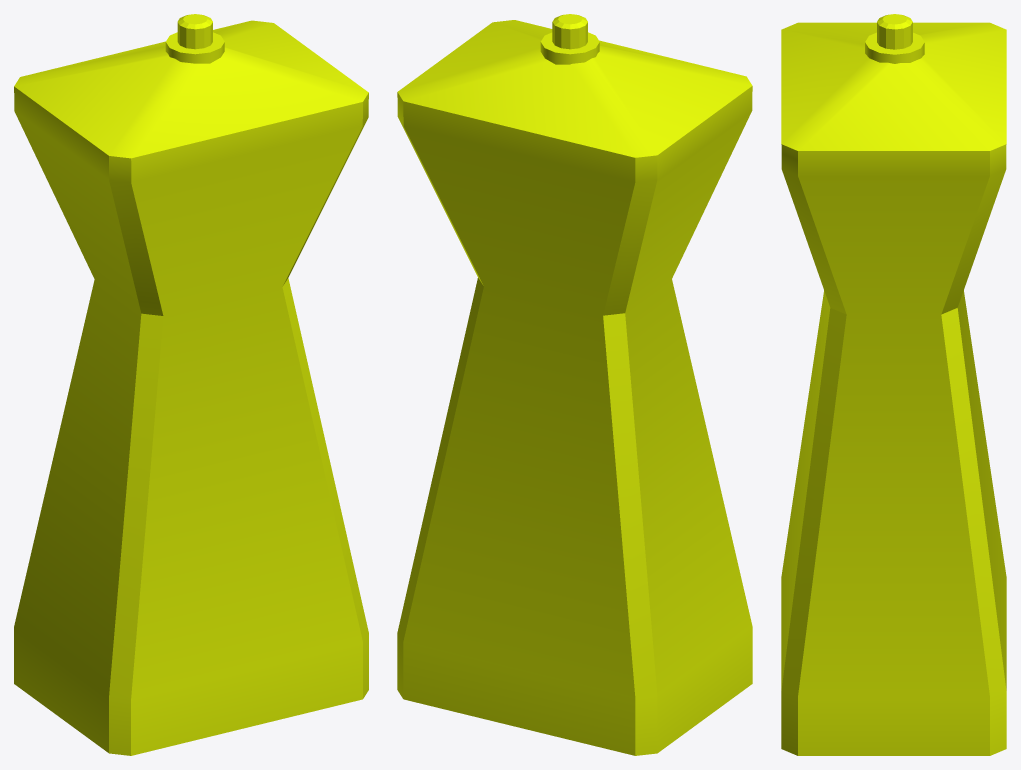
Rendered from CleanSupply2.FBX.
3 renders of one model, left to right at view 1: azimuth 30°, elevation 25°; view 2: azimuth 150°, elevation 25°; view 3: azimuth 270°, elevation 25°, orthographic.
Parts seen in each view (by area): view 1: Box027; view 2: Box027; view 3: Box027.
Part boxes in pixels (x1,y1,x2,y2): Box027: (14,14,368,755); Box027: (397,14,752,755); Box027: (781,14,1006,755).
Size of the model in its own units: 0.1928 by 0.4727 by 0.1429.
